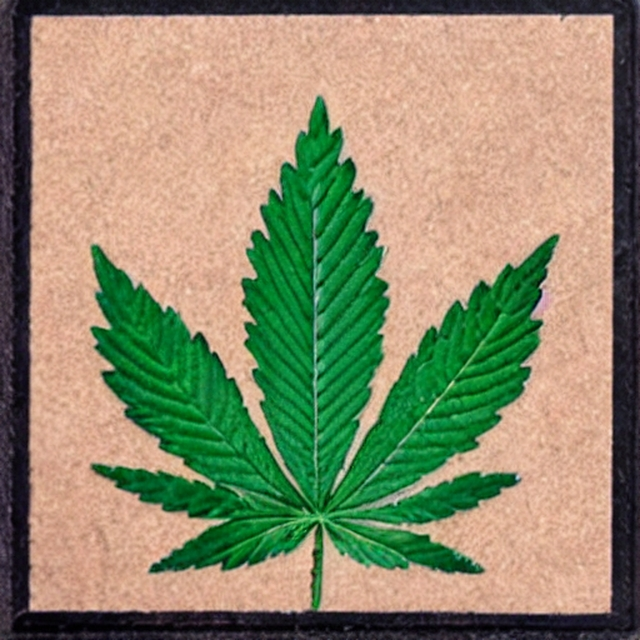Marijuana Leaf: (85, 93, 560, 608)
